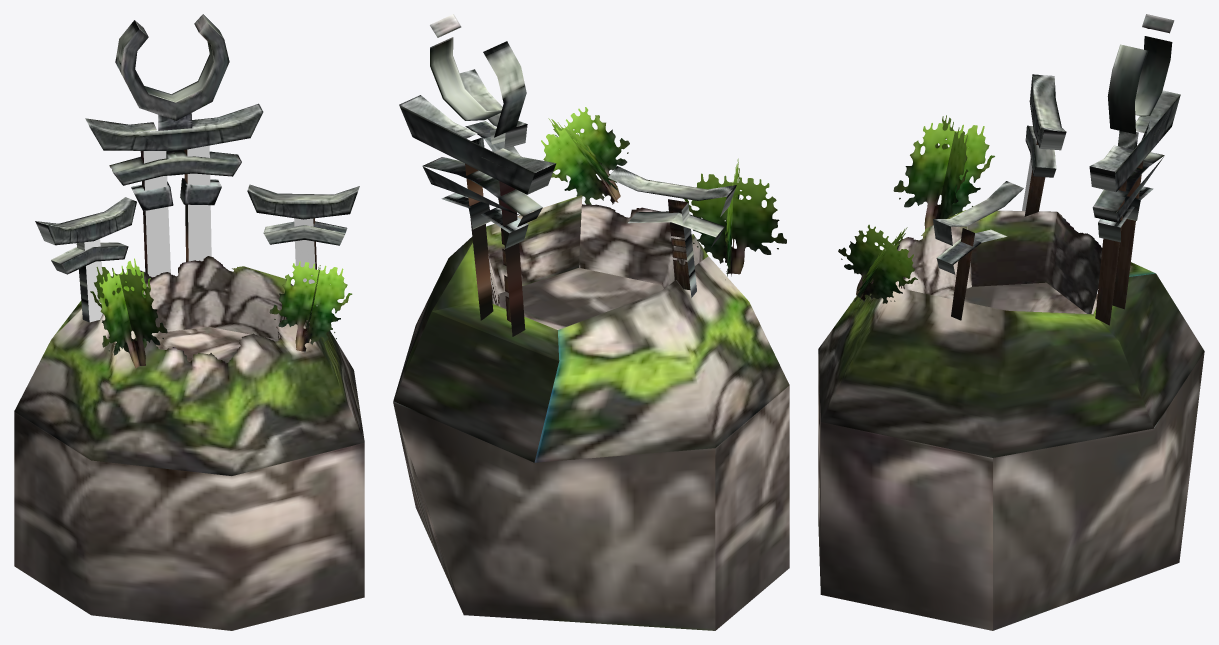
File: w3_moonwell.glb
The picture shows the model from 3 angles, left to right: view 1: azimuth 30°, elevation 25°; view 2: azimuth 150°, elevation 25°; view 3: azimuth 270°, elevation 25°; orthographic projection. The views are drawn at different scales.
Visible parts, largest first — view 1: w3_moonwell_mesh; view 2: w3_moonwell_mesh; view 3: w3_moonwell_mesh.
Boxes of the visible parts, x1,y1,x2,y2 form: w3_moonwell_mesh: (14, 14, 364, 630); w3_moonwell_mesh: (393, 14, 789, 630); w3_moonwell_mesh: (818, 14, 1204, 630).
Bounding box in the file's own units: 180 × 279 × 182.
Materials: 3 (2 with a texture image).
